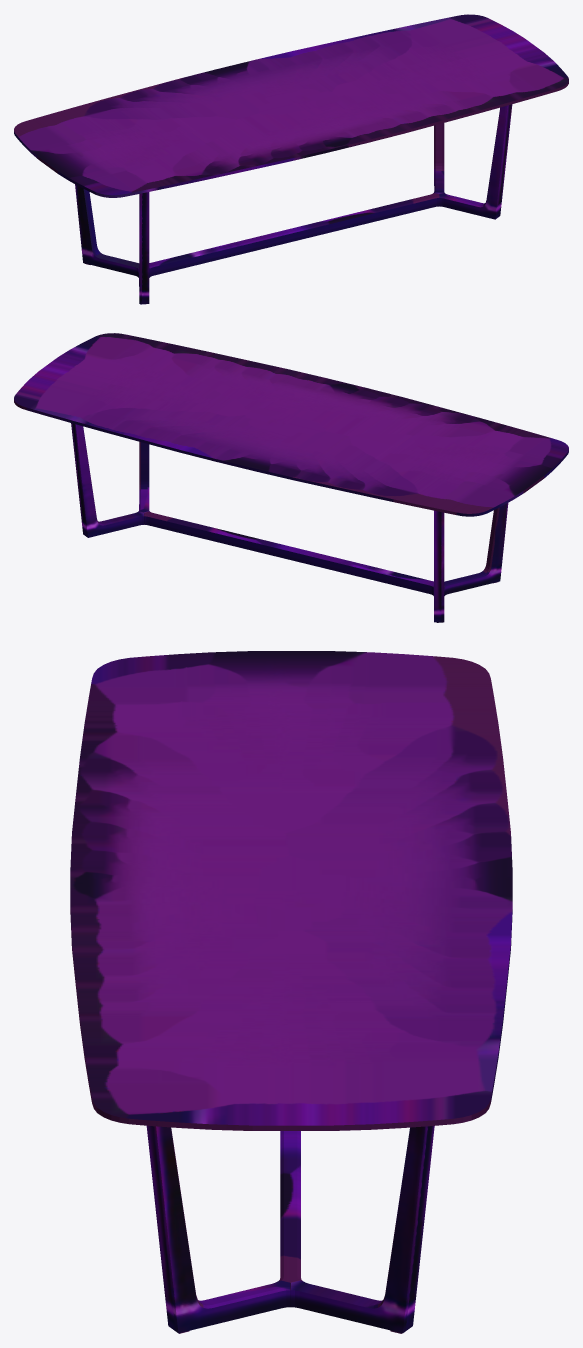
Rendered from edited_mesh.glb.
3 renders of one model, top to bottom at view 1: azimuth 30°, elevation 25°; view 2: azimuth 150°, elevation 25°; view 3: azimuth 270°, elevation 25°, orthographic. The views are drawn at different scales.
Visible parts, largest first — view 1: normalized_model.obj; view 2: normalized_model.obj; view 3: normalized_model.obj.
Part boxes in pixels (x1,y1,x2,y2): normalized_model.obj: (14, 14, 568, 304); normalized_model.obj: (14, 333, 568, 622); normalized_model.obj: (70, 651, 512, 1333).
Bounding box in the file's own units: 2 × 0.5321 × 0.7873.
Materials: 1 (1 with a texture image).
